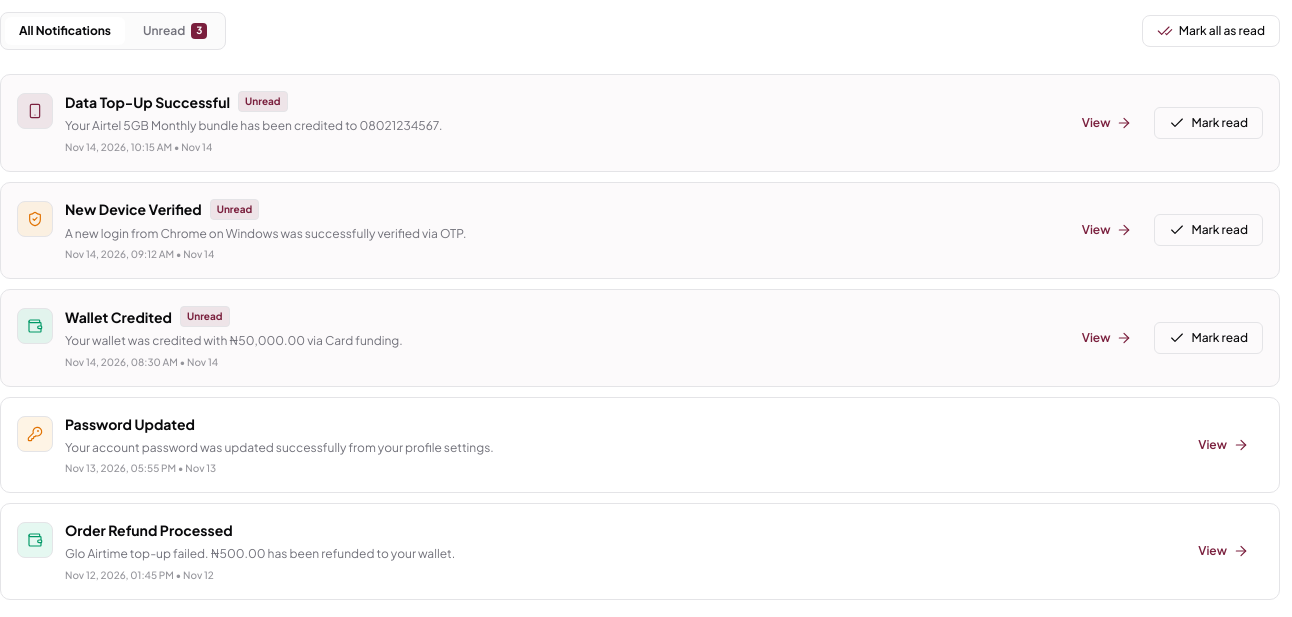
Test case: NotificationsView (F14.3) › filters unread notifications when clicking Unread tab
Click the tab with test id "filter-unread-tab". click: (175, 31)
box: x1=129 y1=17 x2=221 y2=45
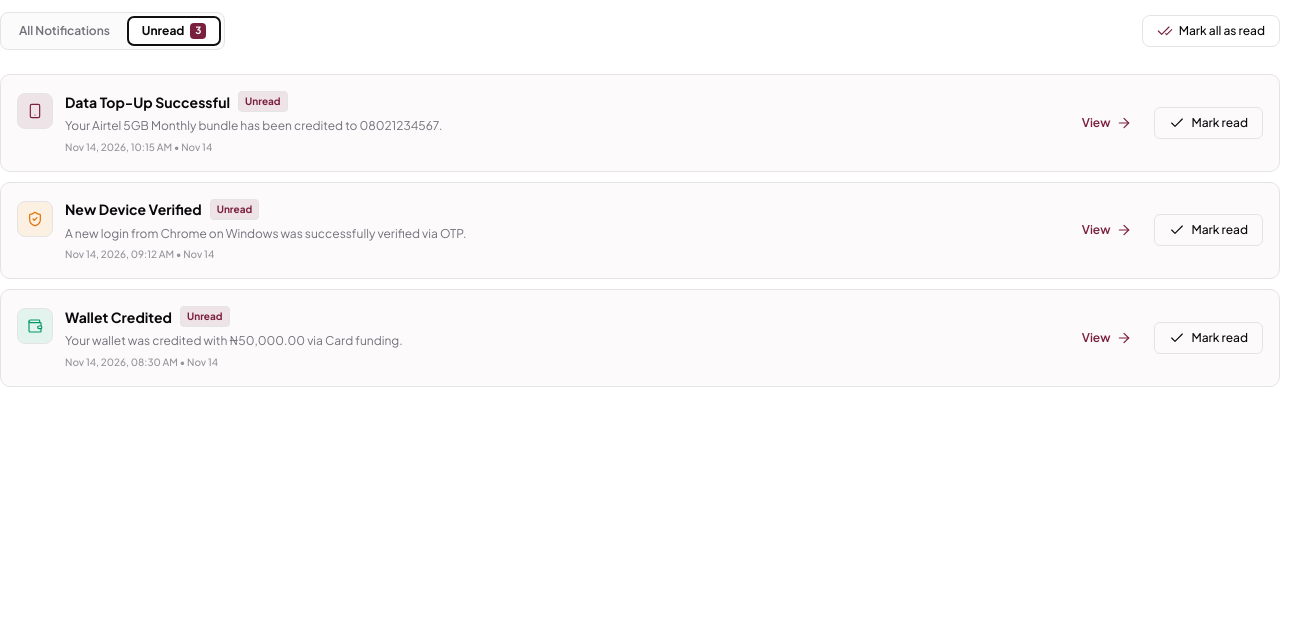
Expected: the heading "Data Top-Up Successful" is shown, x1=65 y1=92 x2=230 y2=112
Expected: the heading "Password Updated" is gone
